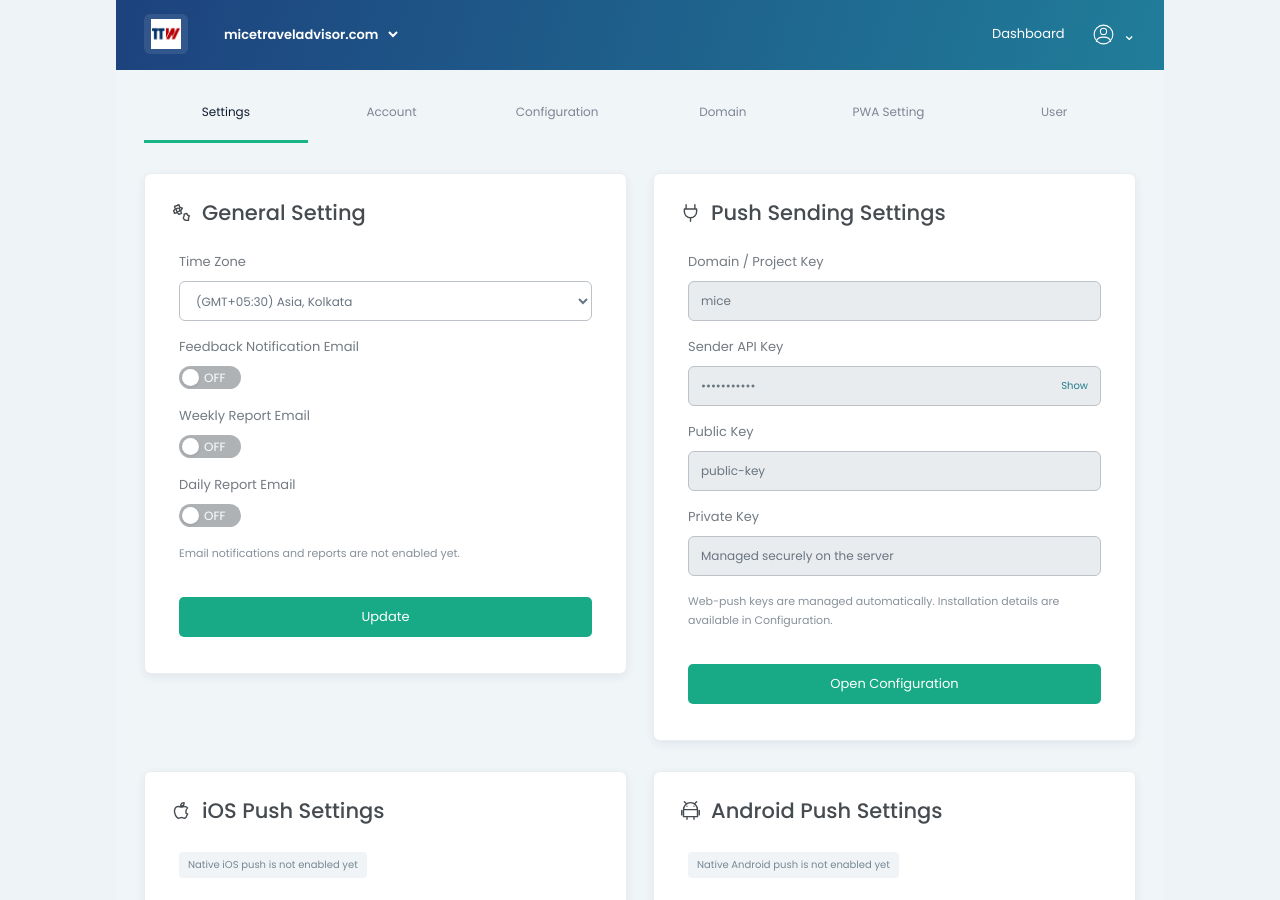
Scenario: save errors preserve the chosen time zone and permit retry
The width and height of the screenshot is (1280, 900).
Select "(GMT+00:00) UTC" in the dropdown labelled "Time Zone". click: (386, 301)
box: [179,281,592,321]
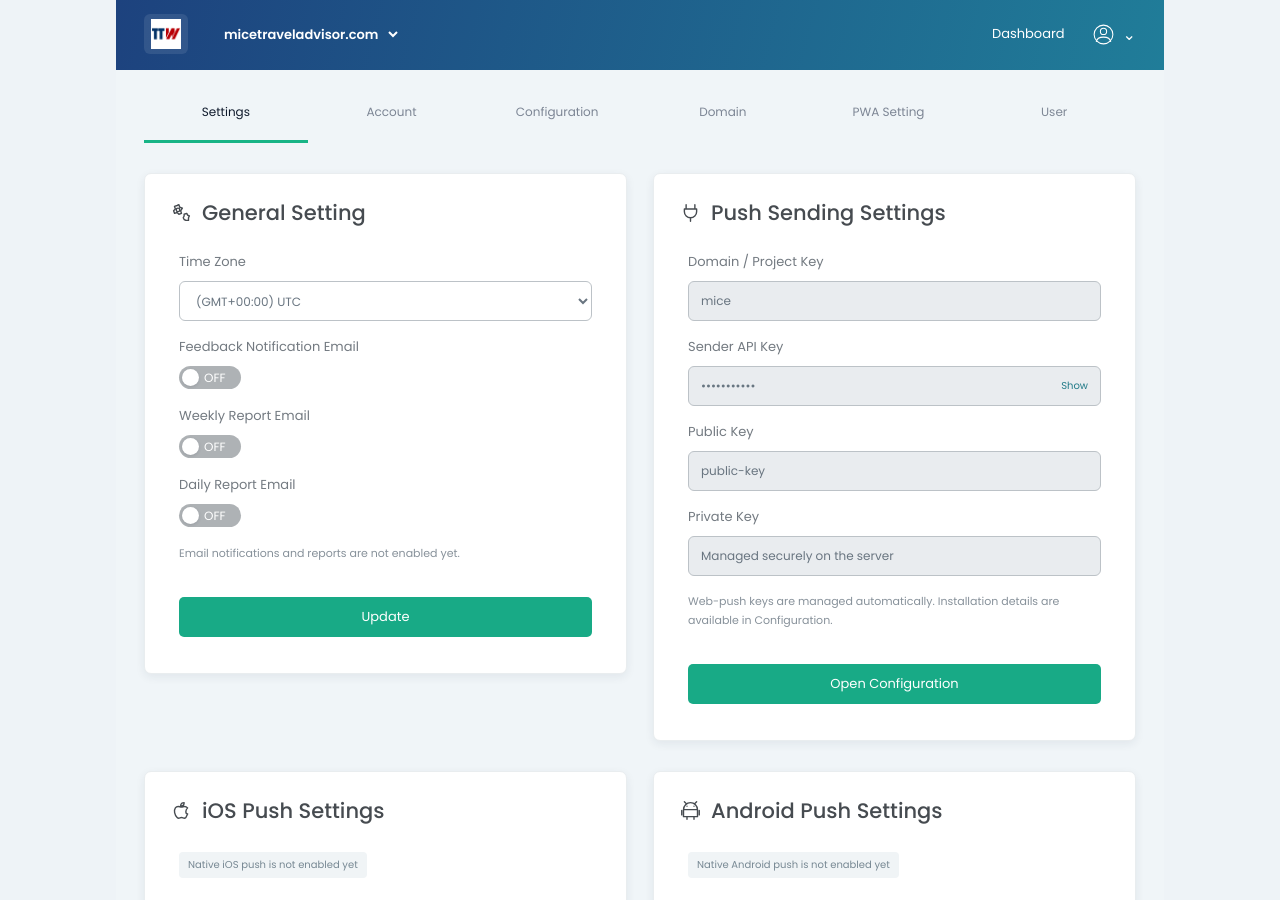
Click the button "Update". click: click(386, 617)
box: [179,597,592,637]
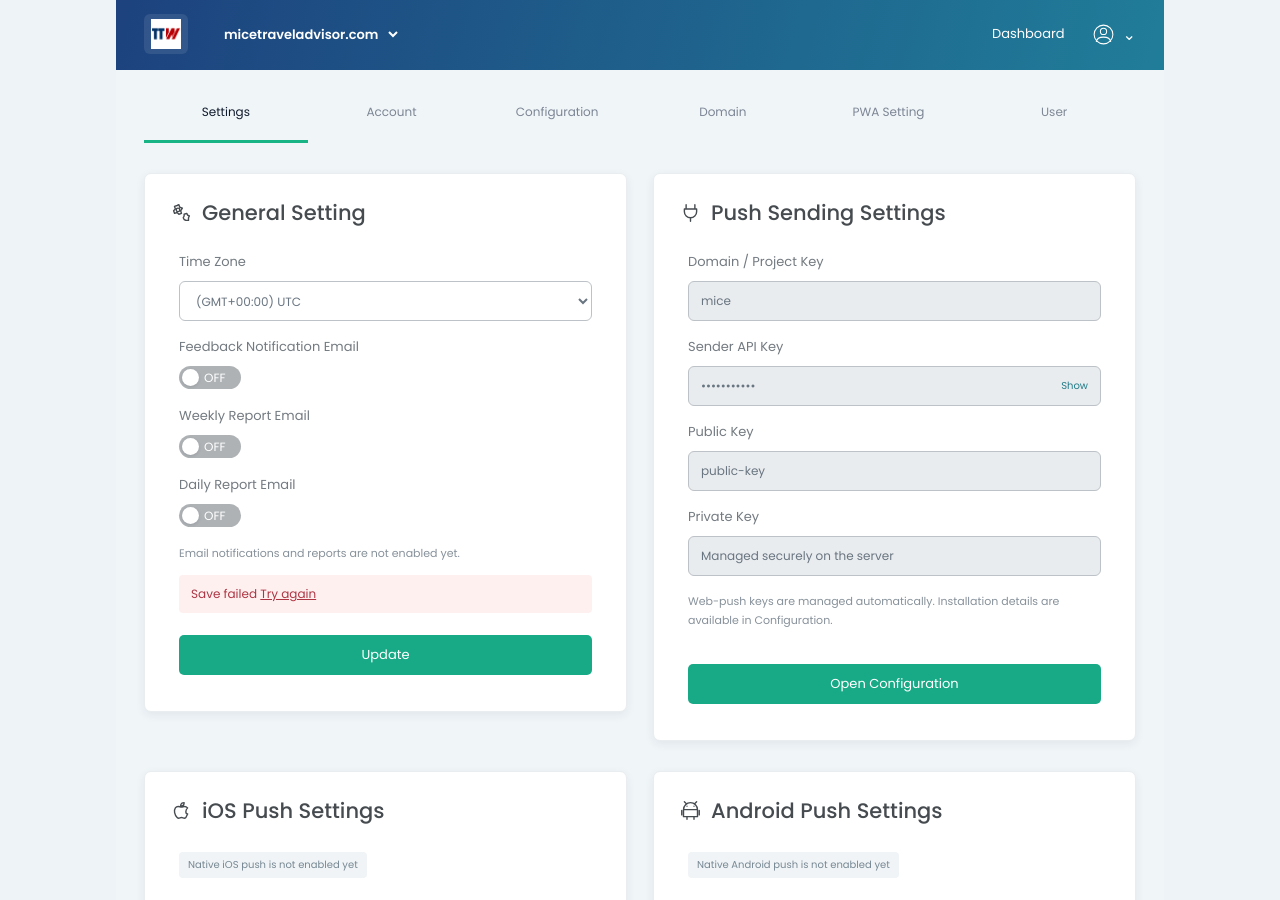
expect the message shows "Save failed": met, box [191,585,257,602]
Click the button "Update". click: click(386, 655)
box: [179,635,592,675]
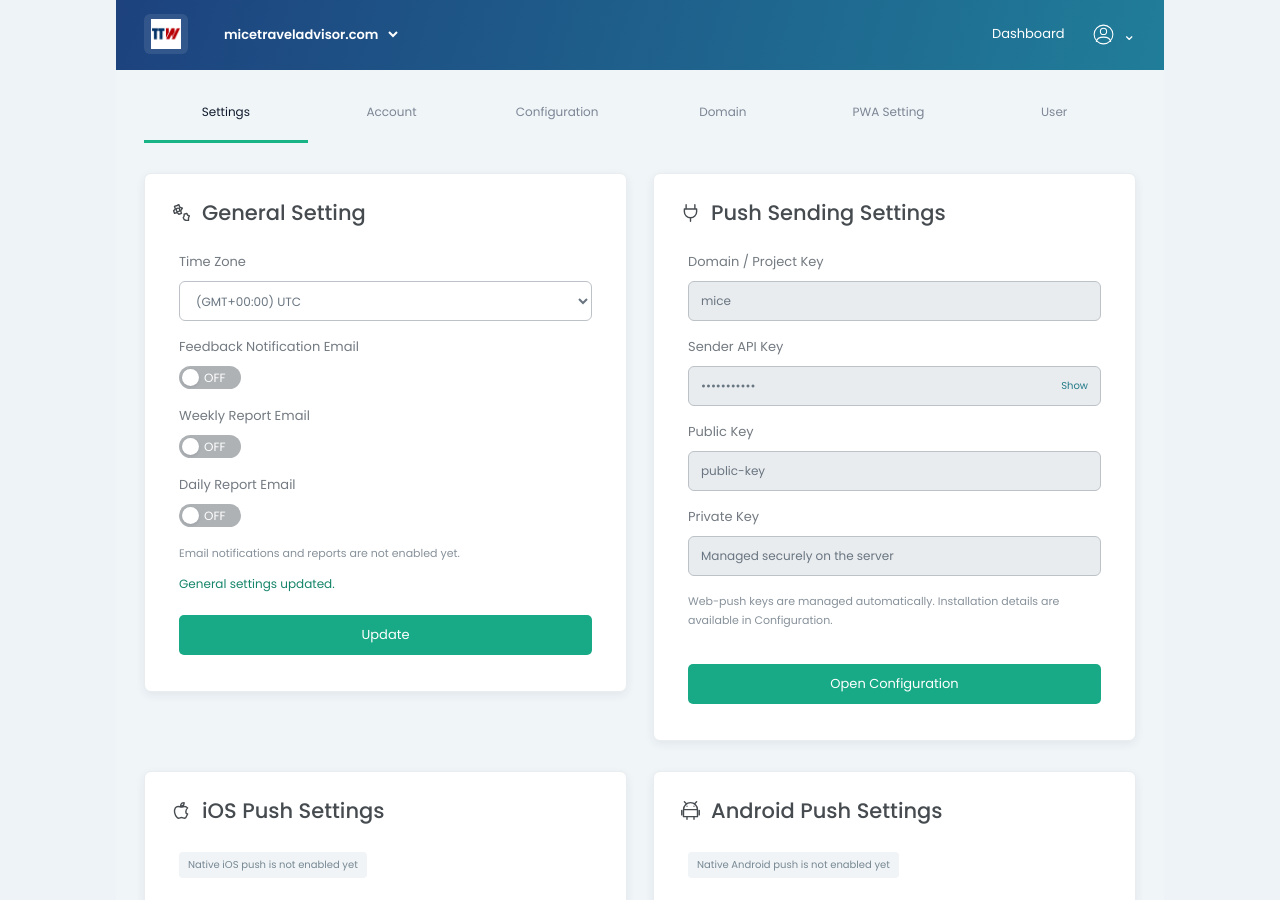
expect the text "General settings updated." is shown: met, box [179,575,335,592]
